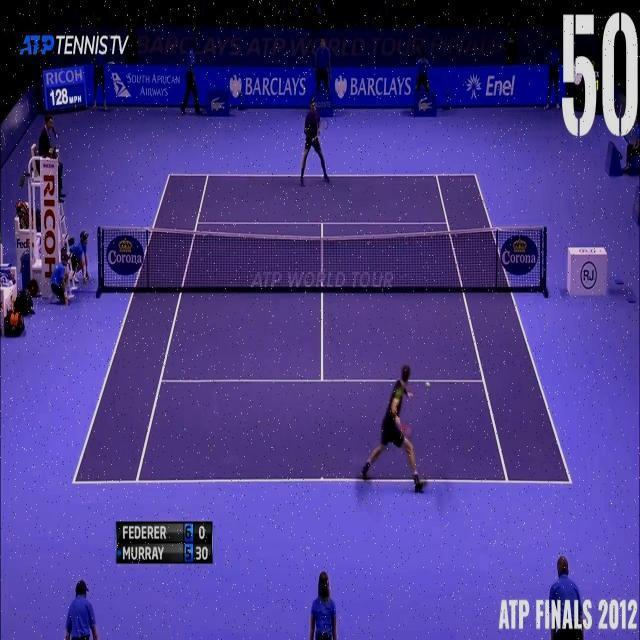left side: (73, 174, 208, 483), (436, 174, 571, 483)
player: (361, 362, 432, 492), (298, 98, 331, 186)
